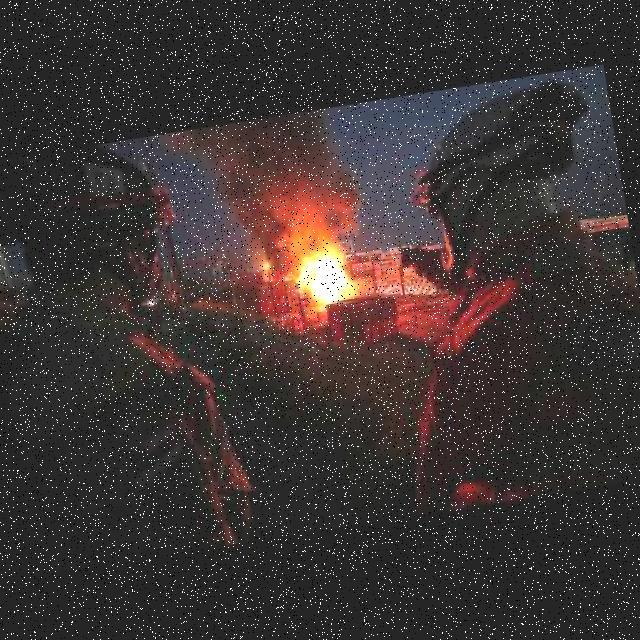Fire: (294, 249, 359, 307)
Smoke: (181, 99, 370, 272)
